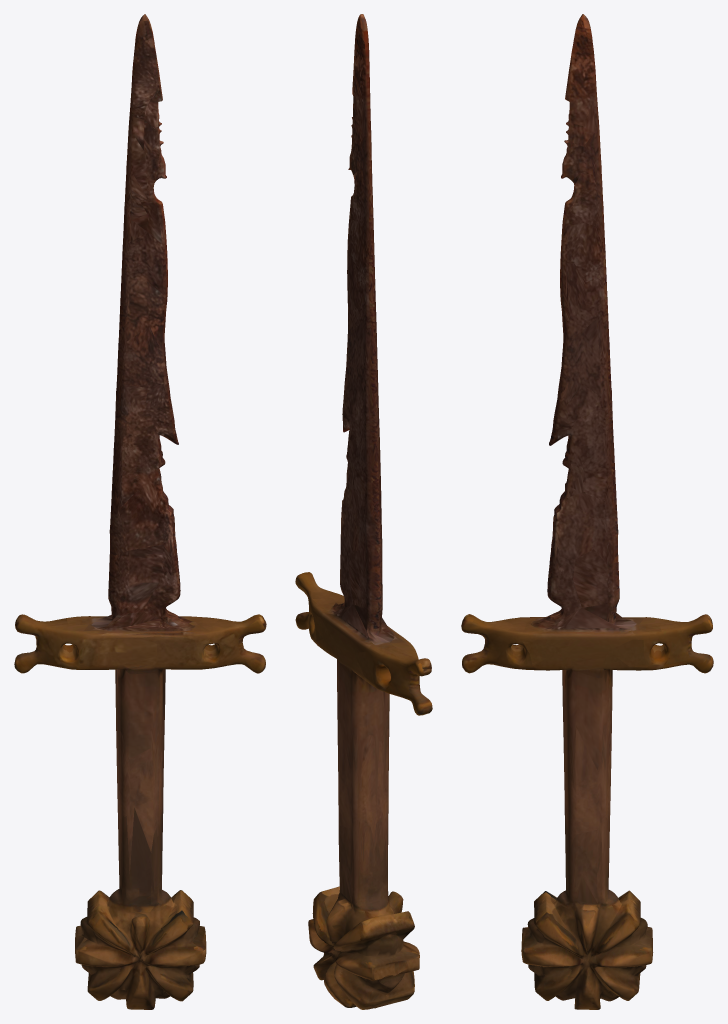
Rendered from dagger0.glb.
3 views of the same model, side by side, from view 1: azimuth 90°, elevation 25°; view 2: azimuth 210°, elevation 25°; view 3: azimuth 270°, elevation 25° (orthographic).
Visible parts, largest first — view 1: tripo_node_e42eceaa; view 2: tripo_node_e42eceaa; view 3: tripo_node_e42eceaa.
Part boxes in pixels (x1,y1,x2,y2): tripo_node_e42eceaa: [14, 14, 266, 1009]; tripo_node_e42eceaa: [295, 14, 432, 1009]; tripo_node_e42eceaa: [461, 14, 713, 1009].
Size of the model in its own units: 0.0426 by 0.5223 by 0.1211.
Materials: 1 (1 with a texture image).
